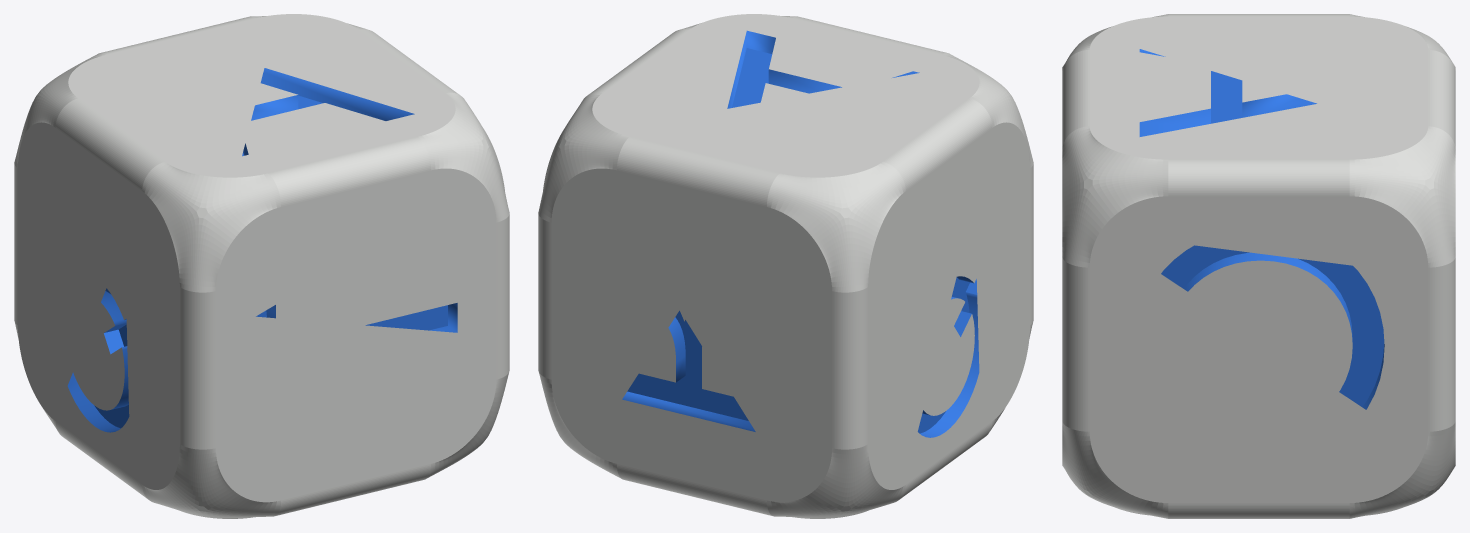
File: BoggleDice.fbx_Die8.fbx
3 views of the same model, side by side, from view 1: azimuth 30°, elevation 25°; view 2: azimuth 150°, elevation 25°; view 3: azimuth 270°, elevation 25° (orthographic). The views are drawn at different scales.
Visible parts, largest first — view 1: Die8; view 2: Die8; view 3: Die8.
Boxes of the visible parts, <box> form: Die8: <box>14,14,509,518</box>; Die8: <box>538,14,1033,518</box>; Die8: <box>1062,14,1455,518</box>.
Bounding box in the file's own units: 200 × 200 × 200.
